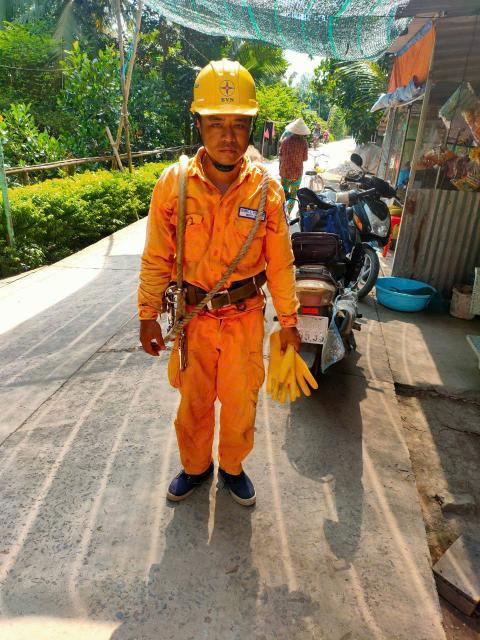harness: (175, 270, 278, 320)
helmet: (186, 55, 264, 126)
shoes: (216, 456, 271, 504), (156, 461, 219, 498)
